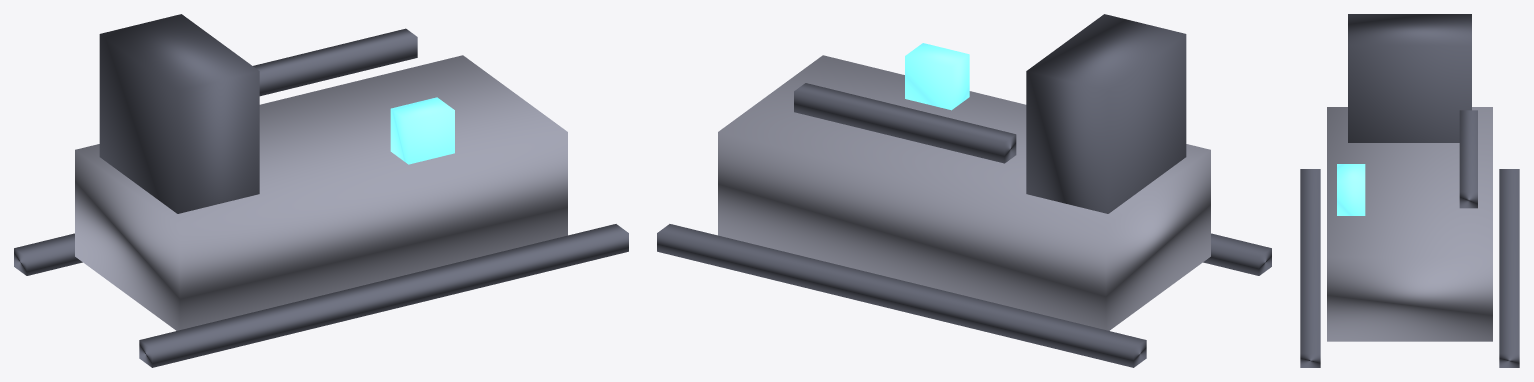
The model's file is parallax-mass-carriage-lod1.glb.
3 renders of one model, left to right at view 1: azimuth 30°, elevation 25°; view 2: azimuth 150°, elevation 25°; view 3: azimuth 270°, elevation 25°, orthographic. The views are drawn at different scales.
Visible parts, largest first — view 1: parallax-mass-carriage-body, parallax-mass-carriage-counterweight, parallax-mass-carriage-rail-right, parallax-mass-carriage-service-spine, parallax-mass-carriage-reference-cell, parallax-mass-carriage-rail-left; view 2: parallax-mass-carriage-body, parallax-mass-carriage-counterweight, parallax-mass-carriage-rail-left, parallax-mass-carriage-service-spine, parallax-mass-carriage-reference-cell, parallax-mass-carriage-rail-right; view 3: parallax-mass-carriage-body, parallax-mass-carriage-counterweight, parallax-mass-carriage-rail-left, parallax-mass-carriage-rail-right, parallax-mass-carriage-service-spine, parallax-mass-carriage-reference-cell.
Boxes of the visible parts, x1,y1,x2,y2 form: parallax-mass-carriage-body: (75,55,567,330); parallax-mass-carriage-counterweight: (99,14,259,213); parallax-mass-carriage-rail-right: (139,224,628,367); parallax-mass-carriage-service-spine: (253,28,417,96); parallax-mass-carriage-reference-cell: (390,97,454,164); parallax-mass-carriage-rail-left: (14,233,82,275); parallax-mass-carriage-body: (718,55,1210,330); parallax-mass-carriage-counterweight: (1026,14,1186,213); parallax-mass-carriage-rail-left: (657,224,1146,367); parallax-mass-carriage-service-spine: (794,83,1016,163); parallax-mass-carriage-reference-cell: (905,43,969,110); parallax-mass-carriage-rail-right: (1203,233,1271,275); parallax-mass-carriage-body: (1327,107,1492,341); parallax-mass-carriage-counterweight: (1348,14,1471,142); parallax-mass-carriage-rail-left: (1499,169,1519,367); parallax-mass-carriage-rail-right: (1300,169,1320,367); parallax-mass-carriage-service-spine: (1459,110,1477,208); parallax-mass-carriage-reference-cell: (1337,164,1365,215).
Bounding box in the file's own units: 4.3 × 2.08 × 2.16.
